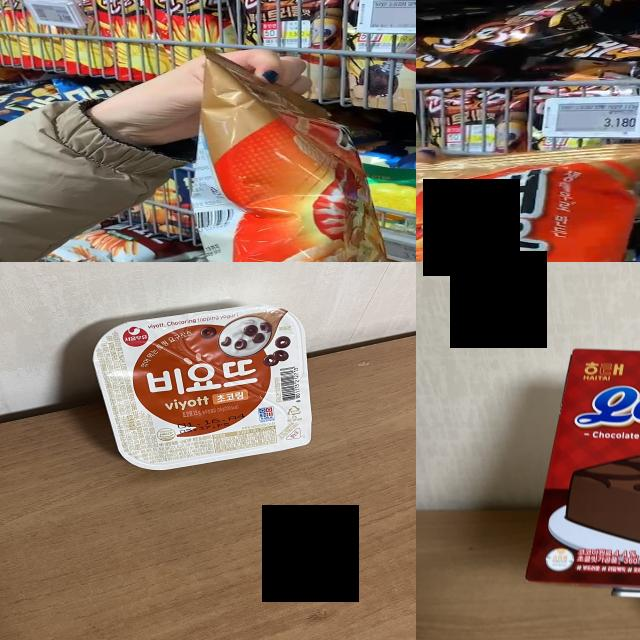bYott: (94, 307, 310, 467)
ohYes: (529, 351, 640, 587)
shrimpGGang: (178, 50, 416, 262), (416, 145, 640, 262)
